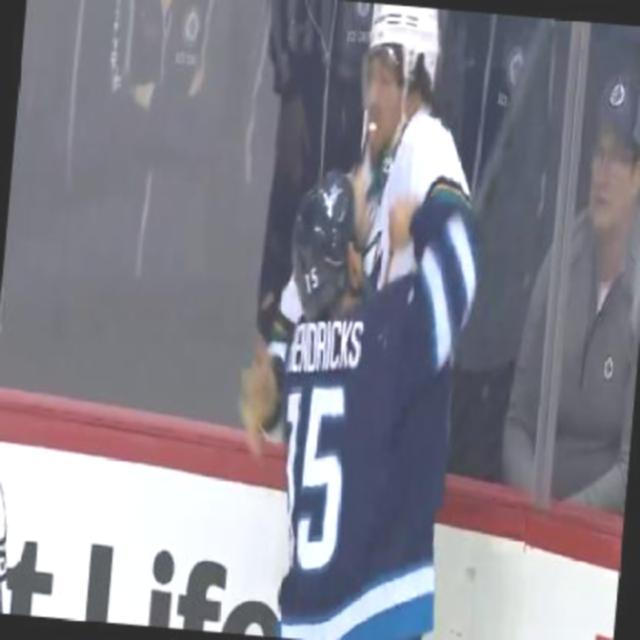fight: (213, 0, 506, 638)
